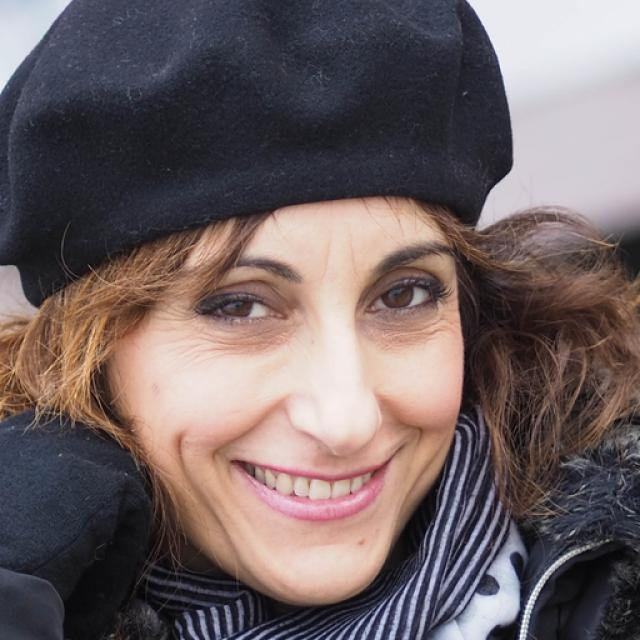Dark Circle: (357, 307, 443, 348), (200, 316, 293, 349)
